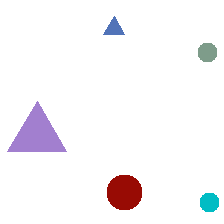circle: (107, 175, 141, 209), (200, 193, 218, 211), (198, 43, 216, 61)
triangle: (7, 101, 66, 151), (103, 16, 124, 34)
